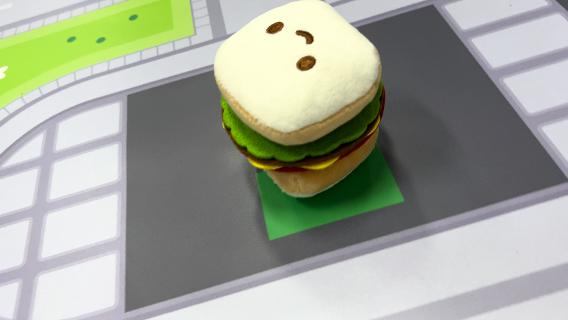sandwich: (211, 1, 389, 199)
